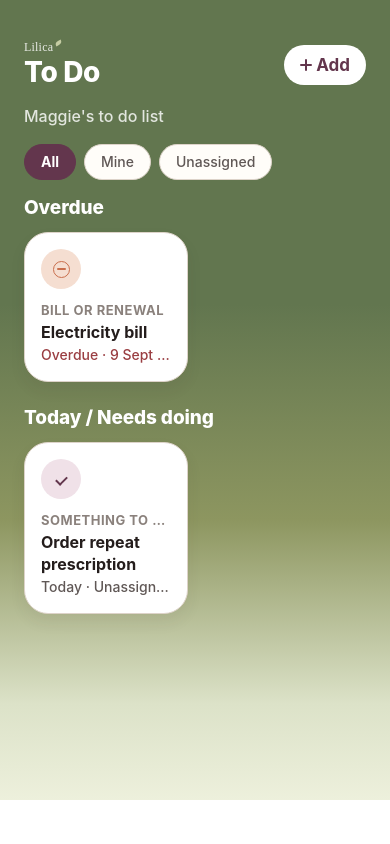
Test: Phase 12: assignment (stable identity, never name-based) › "Unassigned" shows only items with no assignedMembershipId
Click the button "Unassigned". click: {"x": 216, "y": 162}
box: [159, 144, 272, 180]
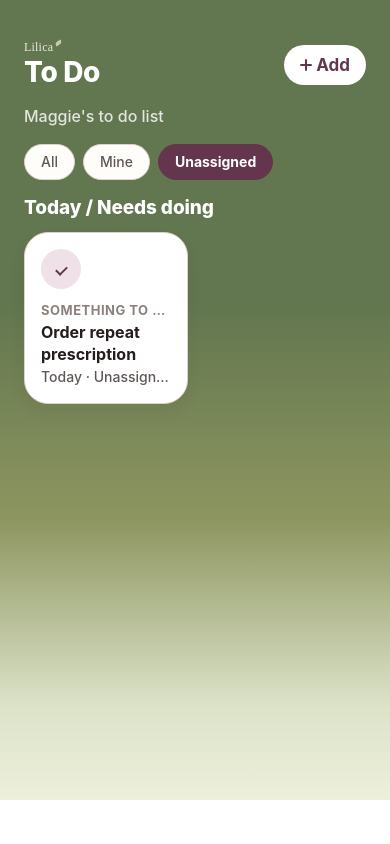
Expected: the text "Order repeat prescription" is shown, [41, 322, 144, 364]
Expected: the button "Electricity bill" is gone
